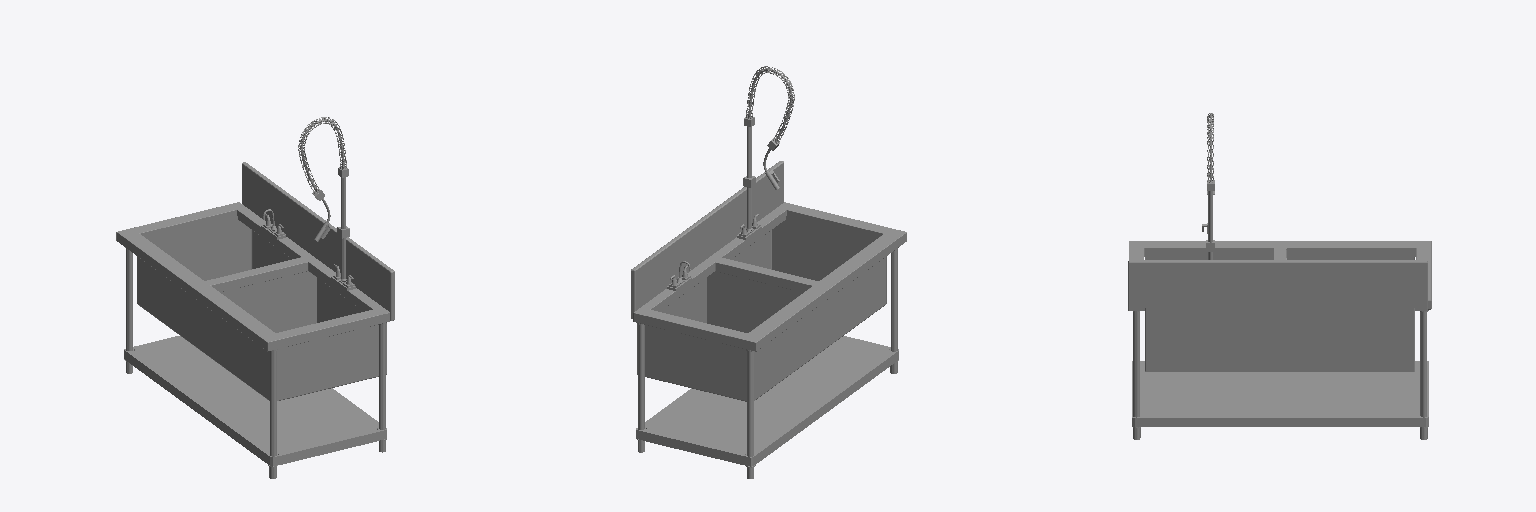
The model's file is sink.obj.
3 views of the same model, side by side, from view 1: azimuth 30°, elevation 25°; view 2: azimuth 150°, elevation 25°; view 3: azimuth 270°, elevation 25° (orthographic).
Parts seen in each view (by area): view 1: Cube.168_Cube.174, Cube.169_Cube.163, Plane.138_Plane.065, Plane.137_Plane.064, Cube.170_Cube.181, Cylinder.560_Cylinder.258, Cylinder.559_Cylinder.257, Cylinder.558_Cylinder.256, BezierCurve.055_BezierCurve.053; view 2: Cube.168_Cube.174, Cube.169_Cube.163, Plane.138_Plane.065, Plane.137_Plane.064, Cube.170_Cube.181, Cylinder.558_Cylinder.256, Cylinder.557_Cylinder.255, Cylinder.560_Cylinder.258, BezierCurve.055_BezierCurve.053; view 3: Cube.168_Cube.174, Cube.169_Cube.163, Plane.137_Plane.064, Plane.138_Plane.065, Cylinder.557_Cylinder.255, Cylinder.559_Cylinder.257.
Boxes of the visible parts, x1=… form: Cube.168_Cube.174: x1=137, y1=216, x2=386, y2=400; Cube.169_Cube.163: x1=128, y1=336, x2=379, y2=464; Plane.138_Plane.065: x1=116, y1=202, x2=389, y2=351; Plane.137_Plane.064: x1=242, y1=162, x2=394, y2=320; Cube.170_Cube.181: x1=220, y1=271, x2=316, y2=332; Cylinder.560_Cylinder.258: x1=268, y1=349, x2=277, y2=478; Cylinder.559_Cylinder.257: x1=379, y1=323, x2=386, y2=452; Cylinder.558_Cylinder.256: x1=124, y1=248, x2=132, y2=373; BezierCurve.055_BezierCurve.053: x1=298, y1=117, x2=346, y2=193; Cube.168_Cube.174: x1=637, y1=216, x2=886, y2=401; Cube.169_Cube.163: x1=643, y1=336, x2=895, y2=464; Plane.138_Plane.065: x1=633, y1=202, x2=906, y2=351; Plane.137_Plane.064: x1=631, y1=161, x2=783, y2=318; Cube.170_Cube.181: x1=707, y1=271, x2=802, y2=332; Cylinder.558_Cylinder.256: x1=746, y1=350, x2=755, y2=478; Cylinder.557_Cylinder.255: x1=637, y1=323, x2=644, y2=452; Cylinder.560_Cylinder.258: x1=890, y1=248, x2=898, y2=373; BezierCurve.055_BezierCurve.053: x1=746, y1=66, x2=794, y2=143; Cube.168_Cube.174: x1=1145, y1=257, x2=1414, y2=371; Cube.169_Cube.163: x1=1132, y1=361, x2=1428, y2=426; Plane.137_Plane.064: x1=1128, y1=260, x2=1427, y2=310; Plane.138_Plane.065: x1=1129, y1=241, x2=1431, y2=309; Cylinder.557_Cylinder.255: x1=1420, y1=310, x2=1428, y2=439; Cylinder.559_Cylinder.257: x1=1133, y1=311, x2=1140, y2=439.
Size of the model in its own units: 2.3 by 5.36 by 4.72.